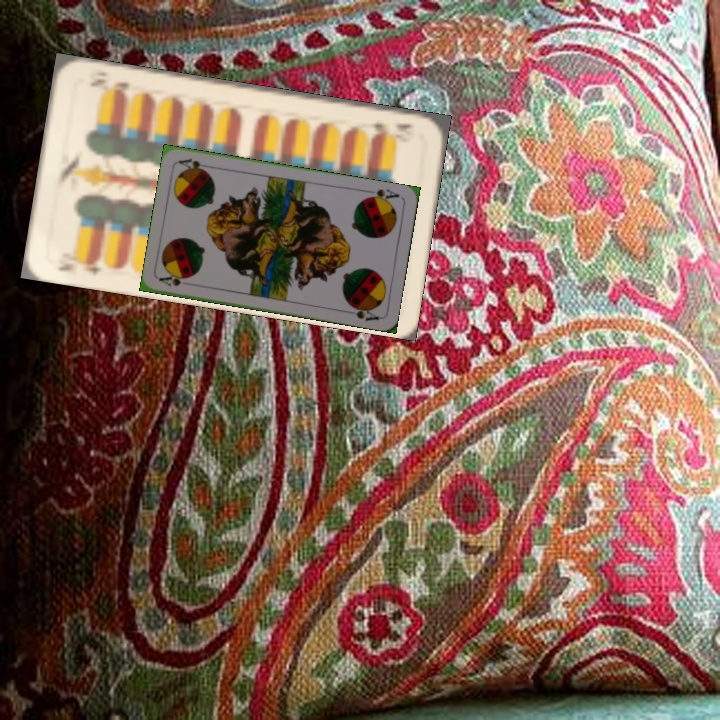E10: (54, 253, 104, 277), (366, 119, 415, 138)
SA: (361, 185, 402, 205), (156, 271, 192, 289)
